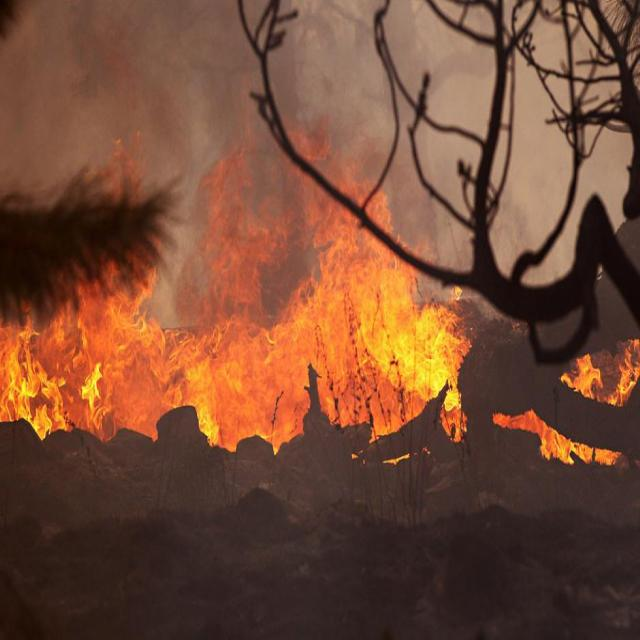fire: (3, 264, 472, 441), (216, 114, 395, 276), (505, 348, 639, 466)
